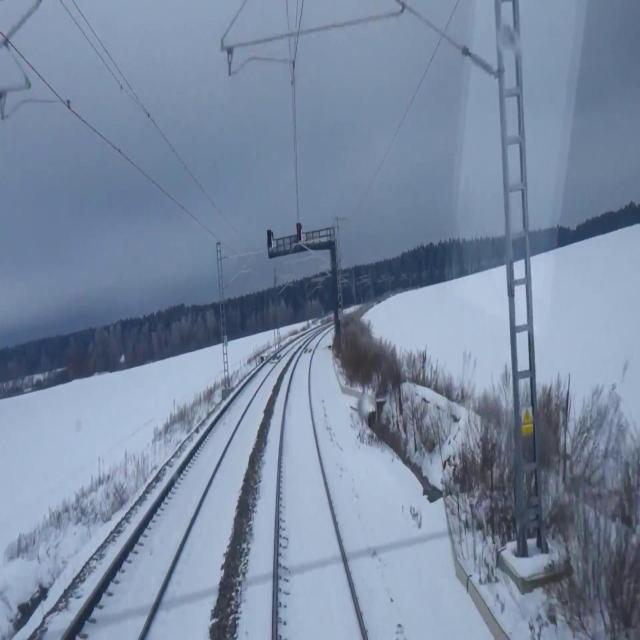rail-track: (66, 347, 287, 639), (278, 334, 363, 639)
